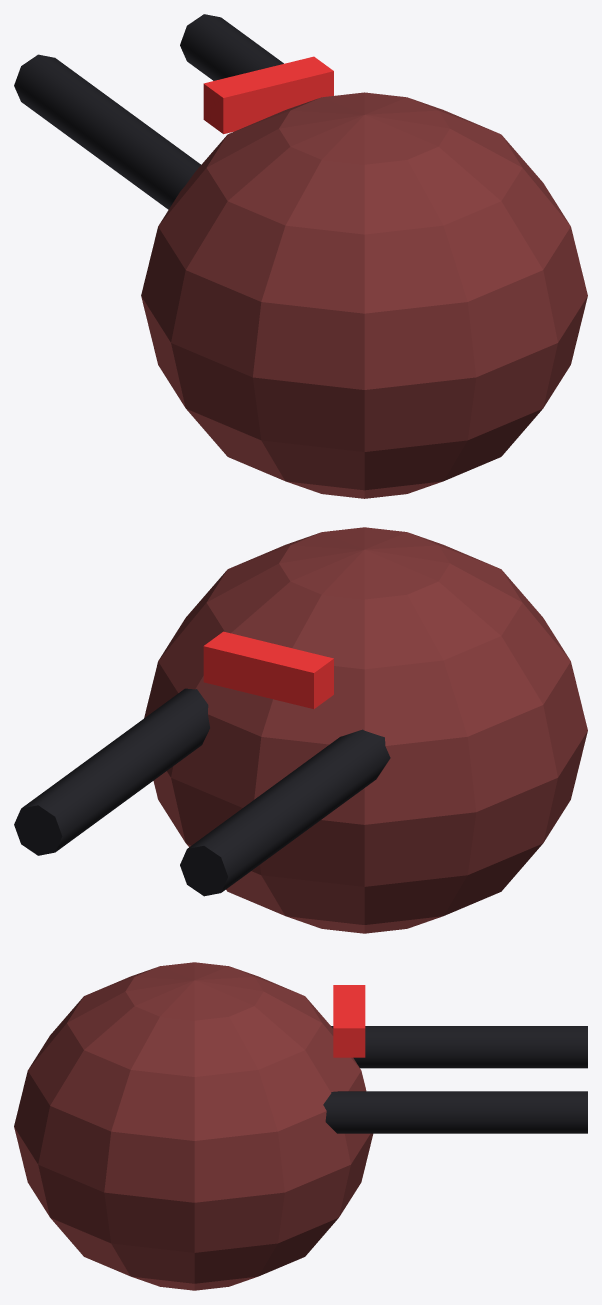
File: enemy_turret_dome.obj
The picture shows the model from 3 angles, top to bottom: view 1: azimuth 30°, elevation 25°; view 2: azimuth 150°, elevation 25°; view 3: azimuth 270°, elevation 25°; orthographic projection. The views are drawn at different scales.
Parts seen in each view (by area): view 1: dome, barrel, eye; view 2: dome, barrel, eye; view 3: dome, barrel, eye.
Part boxes in pixels (x1,y1,x2,y2): dome: (141,92,587,498); barrel: (14,14,283,209); eye: (203,56,333,134); dome: (144,527,587,933); barrel: (14,688,390,896); eye: (203,631,333,708); dome: (14,962,373,1290); barrel: (323,1026,587,1133); eye: (333,985,365,1057).
Size of the model in its own units: 0.56 by 0.5 by 0.89.
